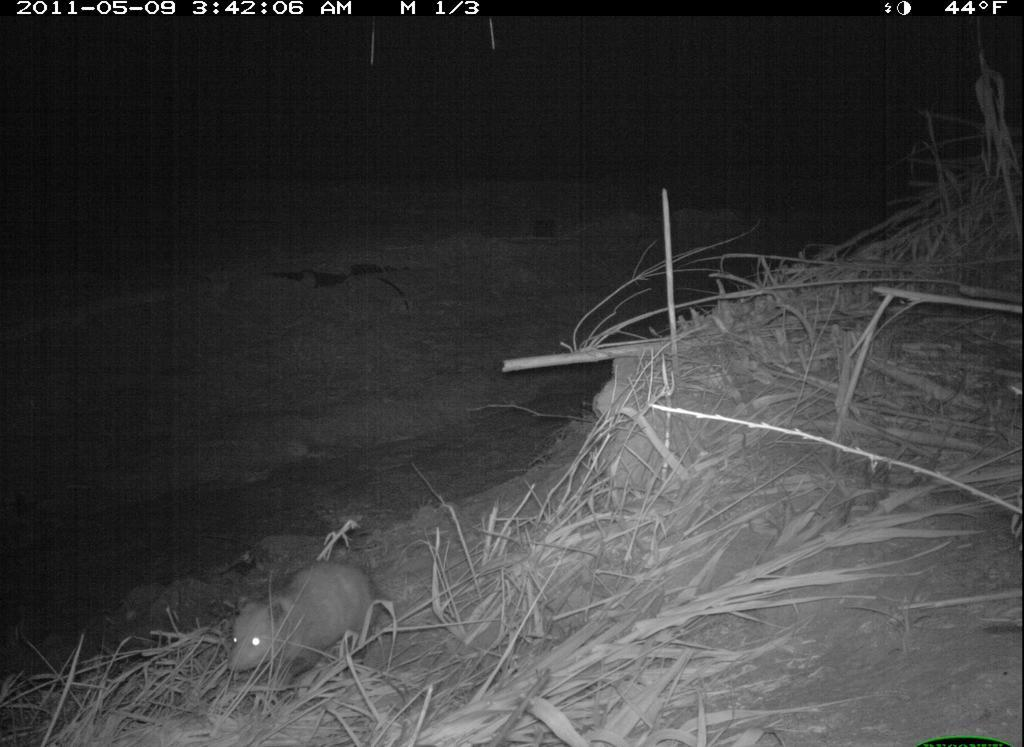opossum: (219, 555, 387, 693)
